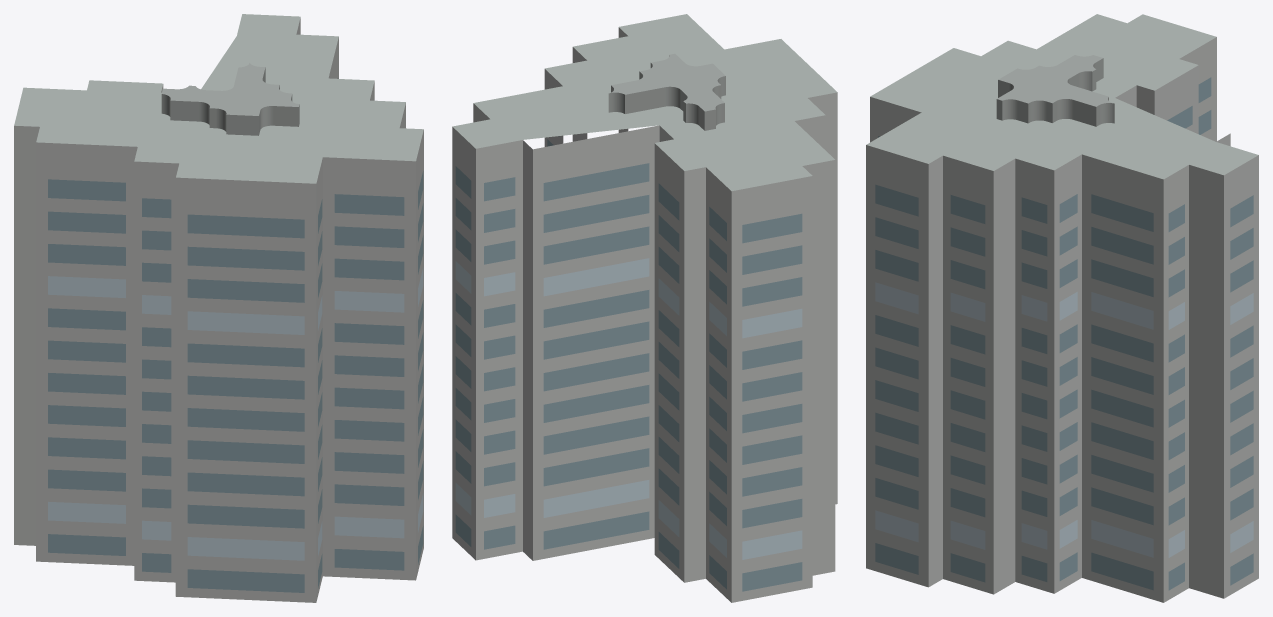
File: fallback-mapo-raemian-prugio-206.glb
The picture shows the model from 3 angles, left to right: view 1: azimuth 30°, elevation 25°; view 2: azimuth 150°, elevation 25°; view 3: azimuth 270°, elevation 25°; orthographic projection. The views are drawn at different scales.
Visible parts, largest first — view 1: fallback-mapo-raemian-prugio-206; view 2: fallback-mapo-raemian-prugio-206; view 3: fallback-mapo-raemian-prugio-206.
Part boxes in pixels (x1,y1,x2,y2): fallback-mapo-raemian-prugio-206: [14, 14, 423, 602]; fallback-mapo-raemian-prugio-206: [452, 14, 837, 602]; fallback-mapo-raemian-prugio-206: [866, 14, 1258, 602].
Size of the model in its own units: 27.22 by 34 by 27.3.
